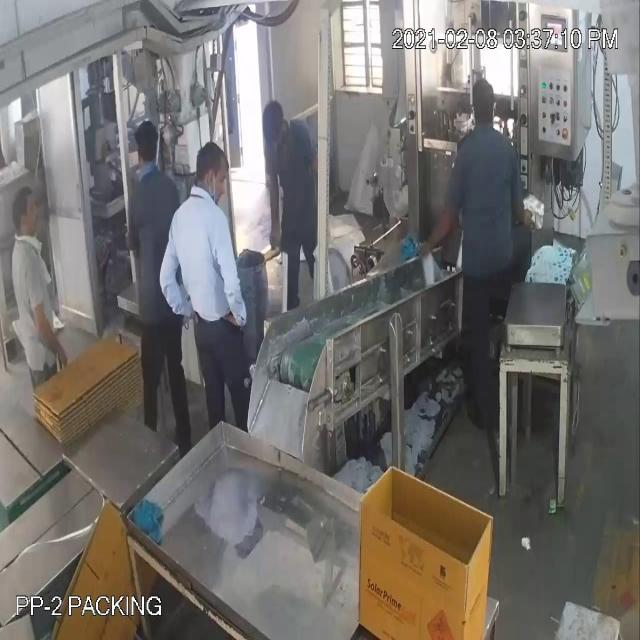No_Gloves: (30, 65, 434, 330)
